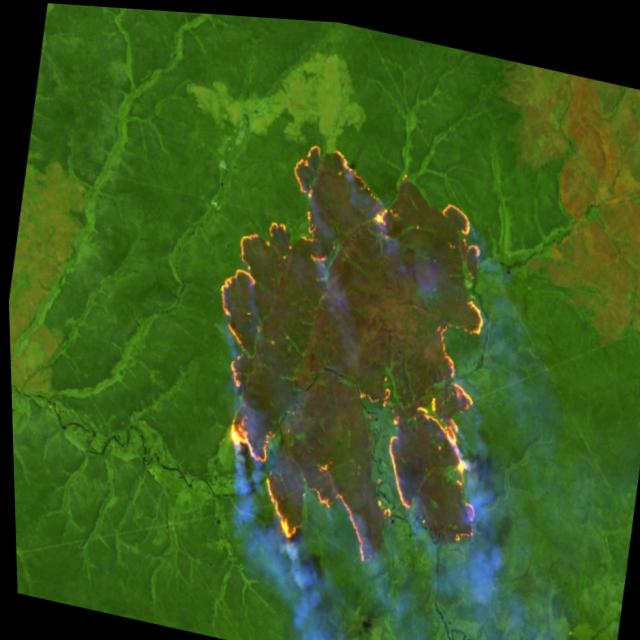fire: (170, 109, 533, 590)
